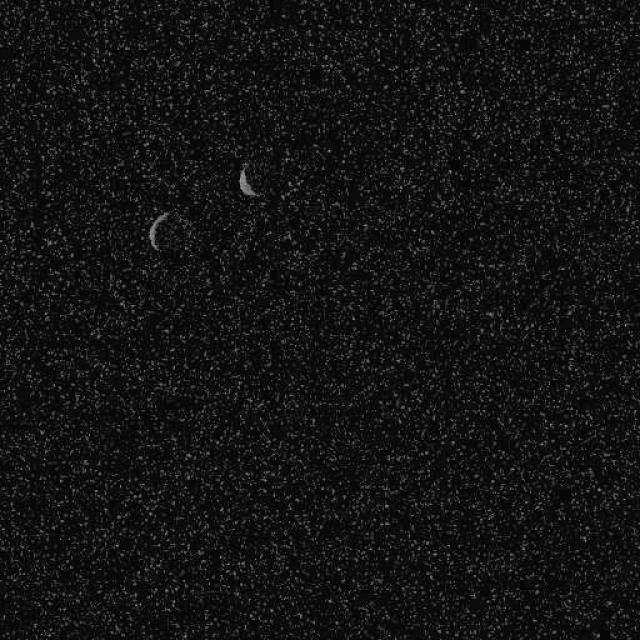D2: (146, 208, 170, 252), (236, 164, 260, 198)
